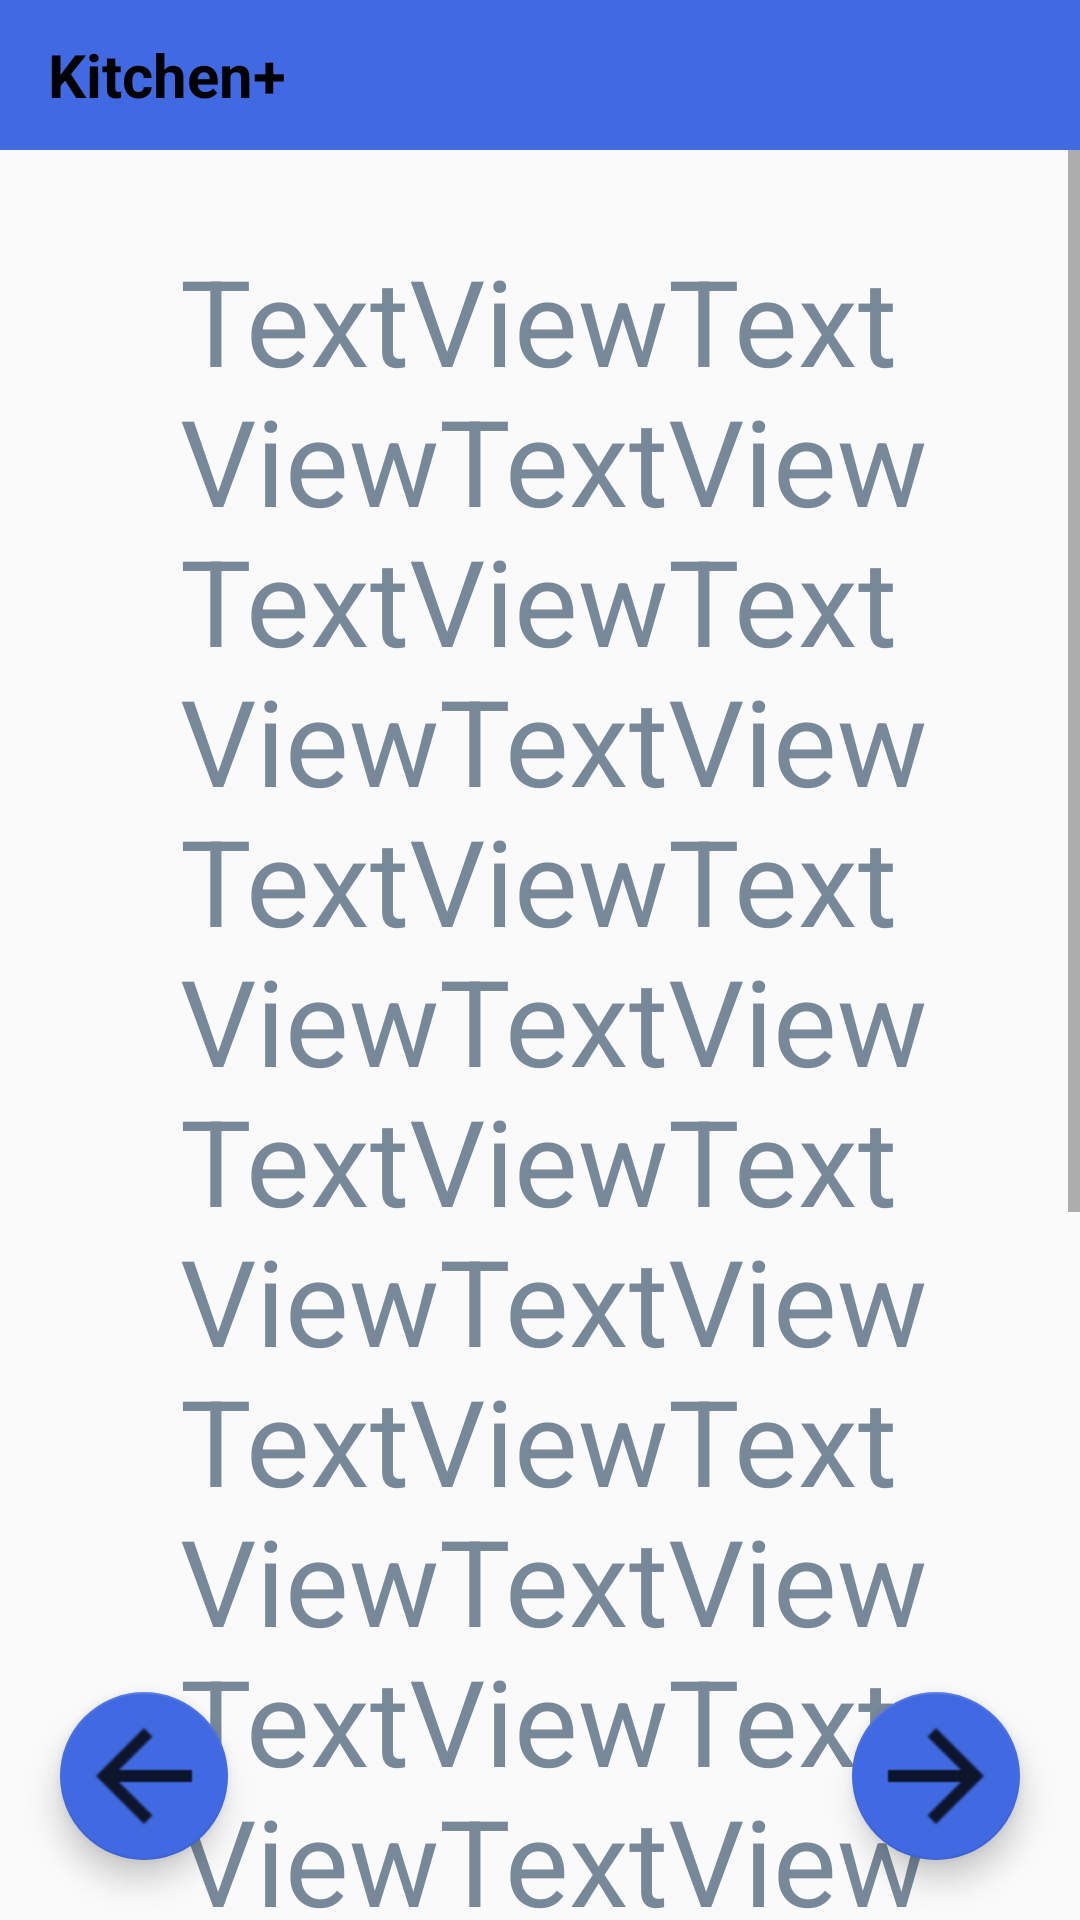

Icon click points for this 1080×1920 phone screenshot, format (x,y):
arrow back: (144,1776)
arrow right: (936,1776)
